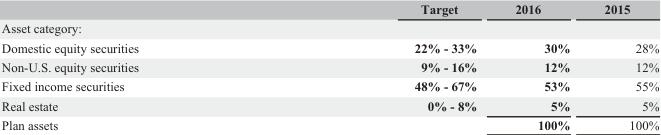table: (0, 1, 658, 131)
table column: (0, 1, 275, 131), (275, 1, 495, 131), (495, 1, 586, 131), (586, 1, 658, 131)
table column header: (0, 1, 658, 18)
table projected row header: (0, 18, 658, 37)
table row: (0, 56, 658, 76), (0, 95, 658, 115), (0, 18, 658, 37), (0, 37, 658, 56), (0, 76, 658, 95), (0, 1, 658, 18), (0, 115, 658, 131)
